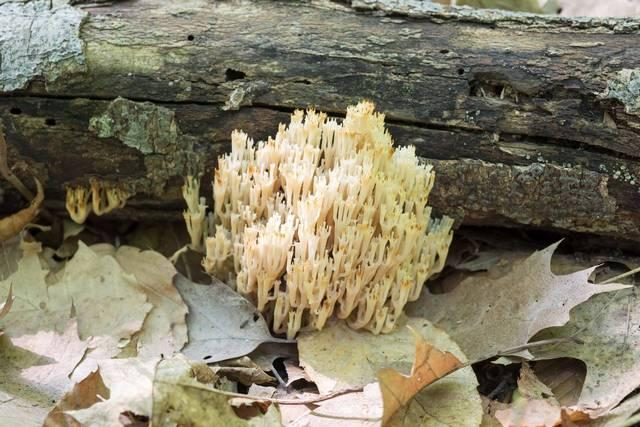Edible Mushroom: (178, 98, 456, 339), (63, 174, 131, 224)
